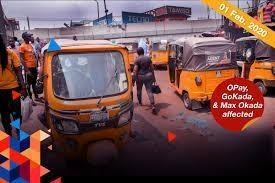keke: (40, 36, 138, 148), (168, 37, 239, 109)
